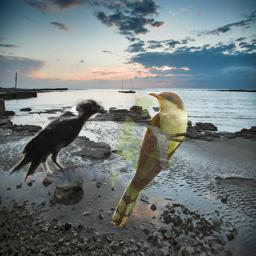Crow: (4, 96, 105, 182)
Cuckoo: (112, 91, 188, 229)
